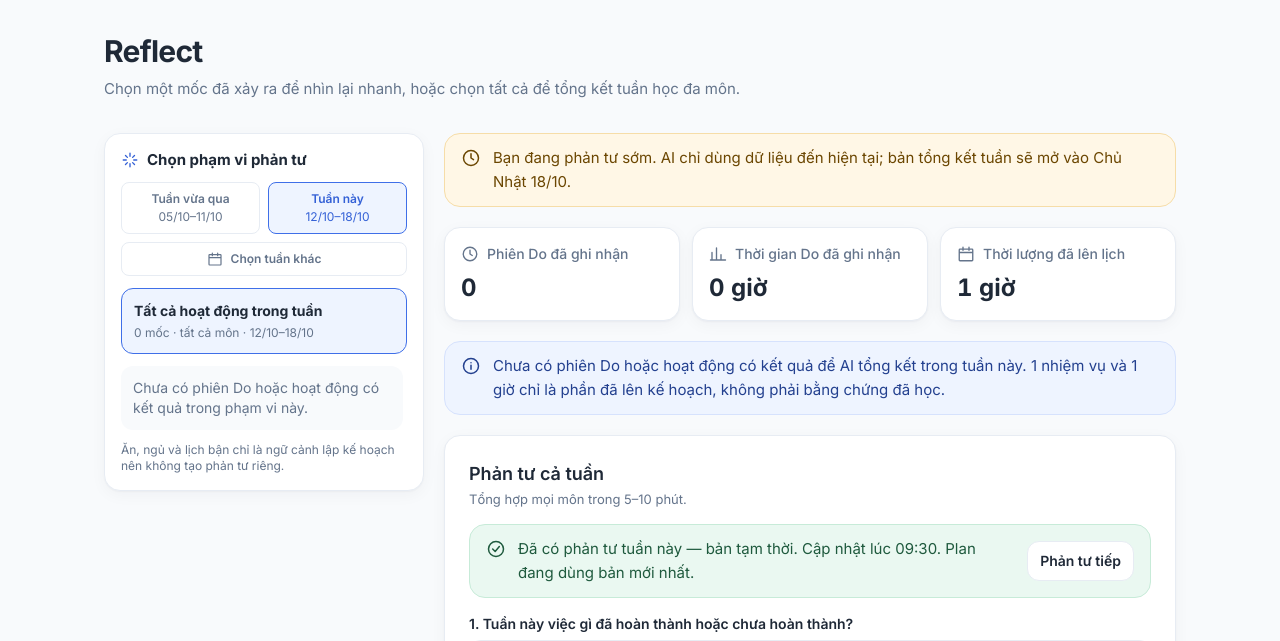
Test: weekly reflection scope › shows the current weekly reflection and unlocks it through Phản tư tiếp
The width and height of the screenshot is (1280, 641).
expect the text "Đã có phản tư tuần này — bản tạm thời" is shown: met, box [518,539,798,558]
expect the text "Plan đang dùng bản mới nhất" is shown: met, box [518,539,976,582]
Click the button "Phản tư tiếp": (1081, 561) [1027,541,1134,581]
(page scrolled)
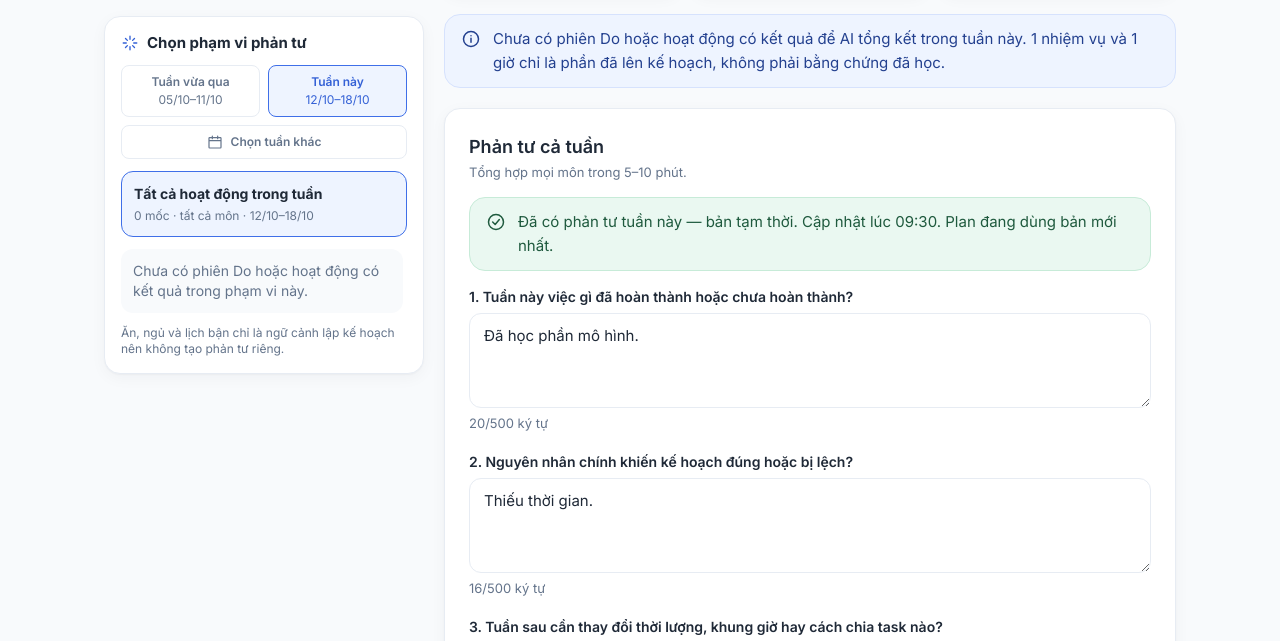
expect the text box labelled "1. Tuần này việc gì đã hoàn thành hoặc chưa hoàn thành?" is enabled: met, box [469,313,1151,408]
